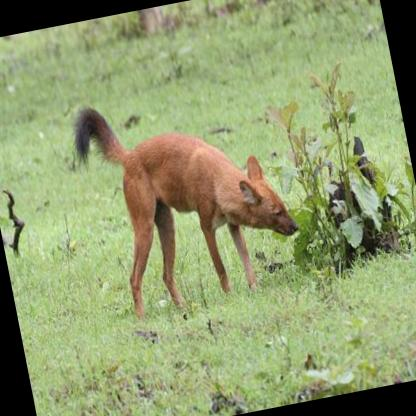dhole: (66, 72, 308, 322)
